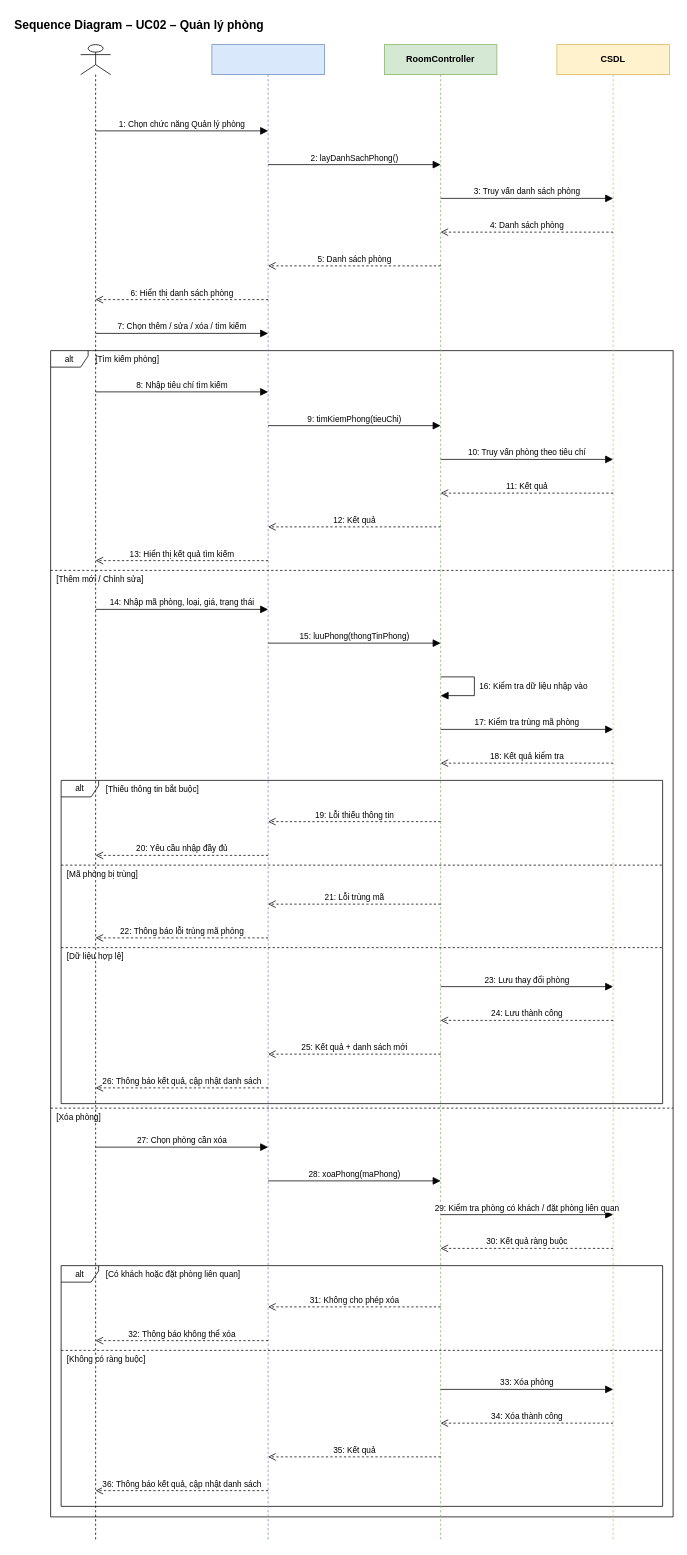
Some shapes in this 687 by 1555 pixel diagram are drawn without their labels. The box of each missing label's shape, as (x1, y1, x2, y2) in pixels:
Form Quản lý phòng: (211, 44, 324, 1542)
Nhân viên quản lý: (80, 44, 111, 1542)
